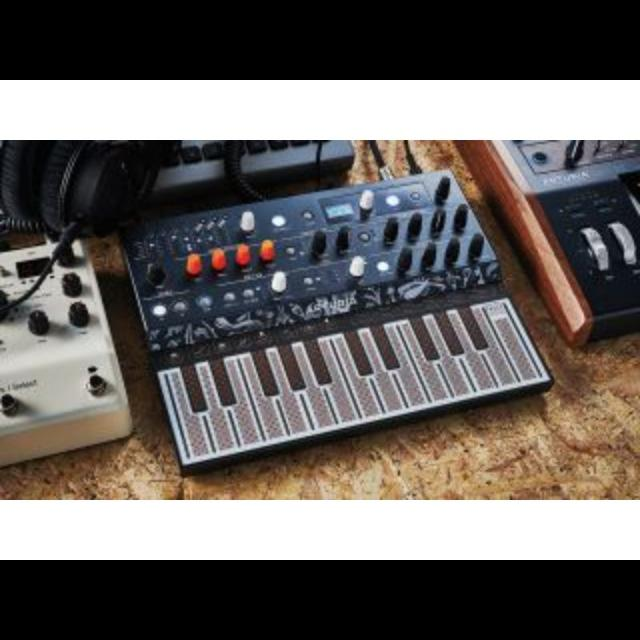Electronic-Keyboard: (118, 178, 546, 454)
